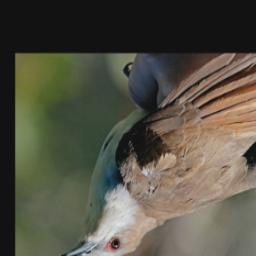Cuckoo: (60, 53, 256, 256)
